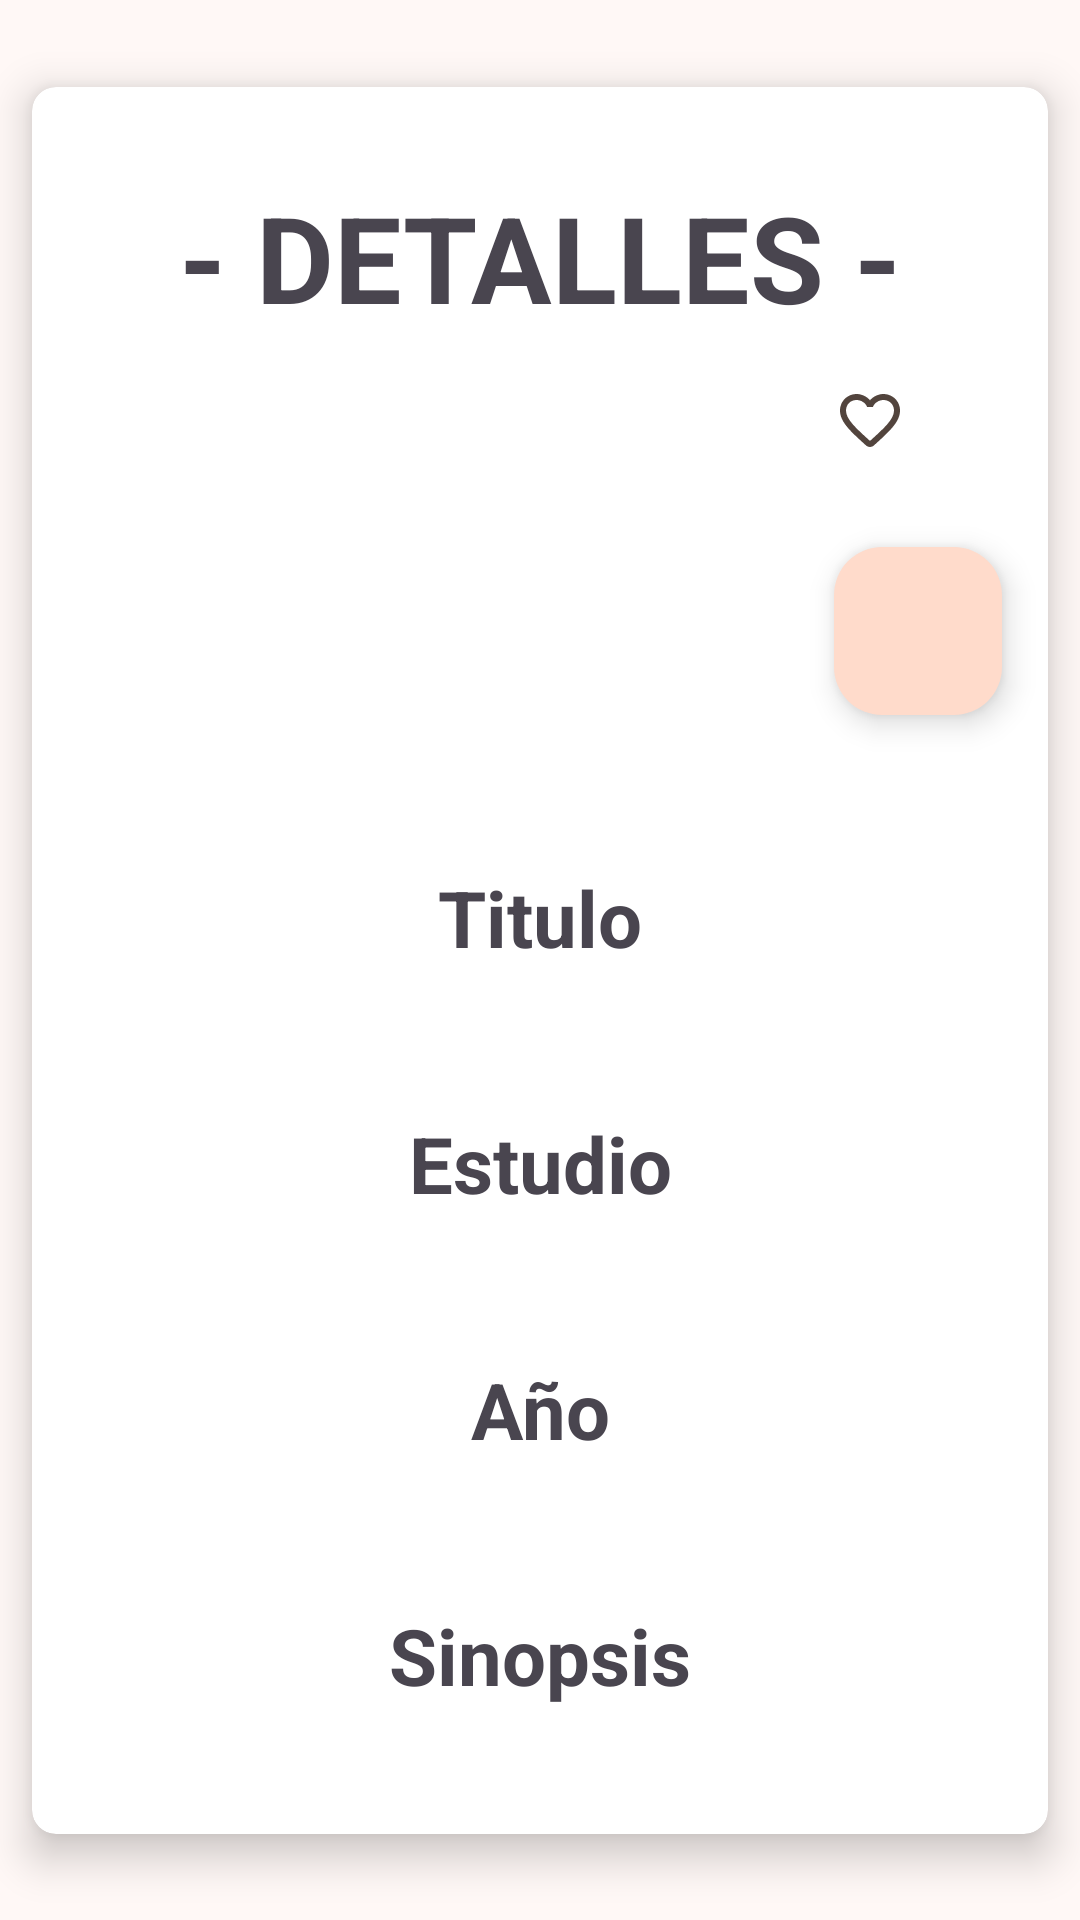

Icon click points for this 1080w x 1920h phone screenshot, format (x,y):
favourite item: (870,420)
